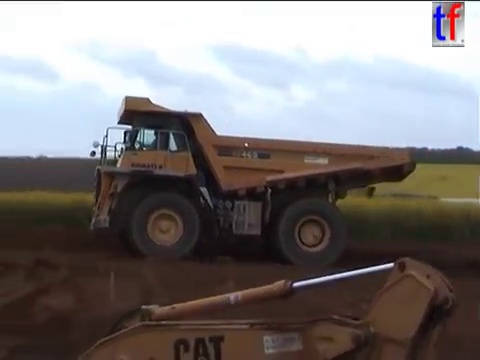excavator: (71, 252, 459, 360)
truck: (86, 93, 420, 270)
